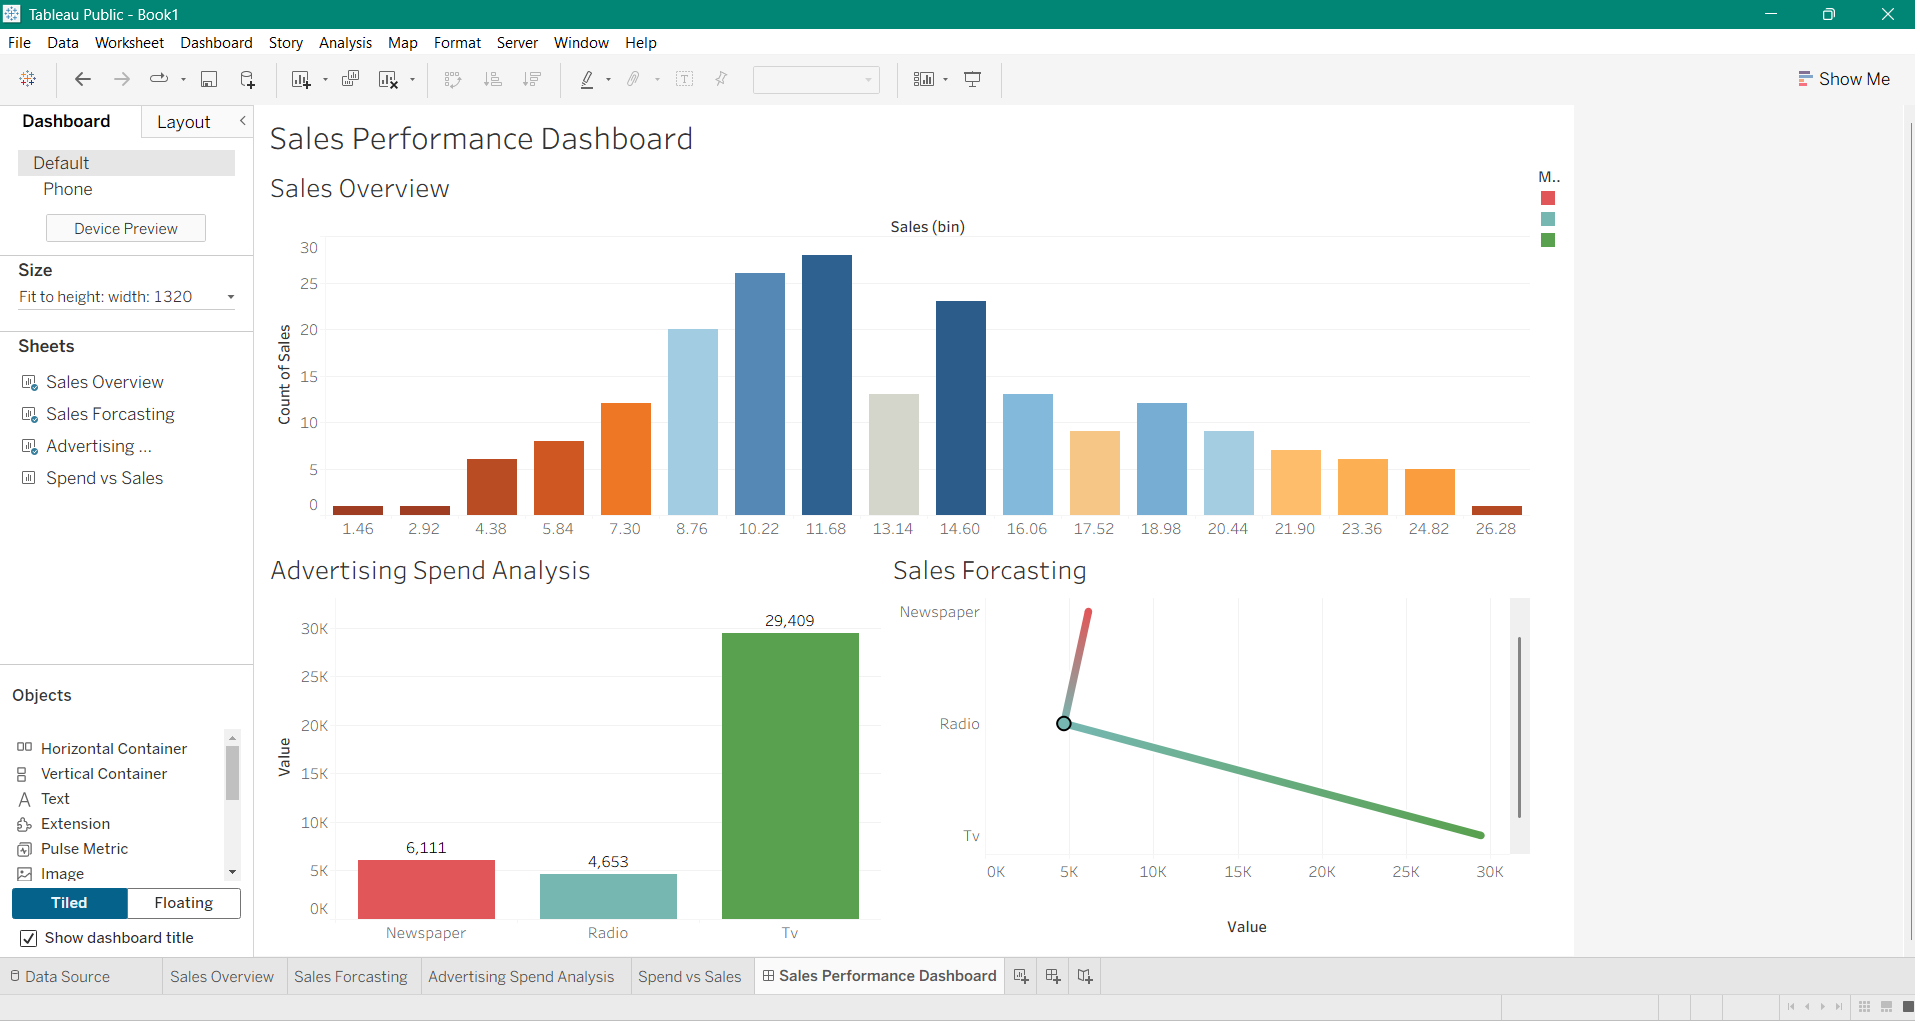

What the dashboard file says about the page in this screenshot:
{"tool":"tableau","page":{"name":"Sales Performance Dashboard","canvas":[1000,1000],"units":"permille","ordinal":0},"visuals":[{"type":"title","box":[6.1,9.4,987.9,58.7]},{"type":"worksheet","title":"Sales Overview","mark":"Automatic","rows":["sales"],"cols":["Sales (bin)"],"box":[6.1,68.1,963.6,448.4]},{"type":"legend","title":"Sales Forcasting","param":"[federated.0pinwom1u4ixl411bas8o1o83u2v].[:Measure Names]","box":[969.7,68.1,24.2,109.2]},{"type":"worksheet","title":"Advertising Spend Analysis","mark":"Automatic","box":[6.1,516.4,472,474.2]},{"type":"worksheet","title":"Sales Forcasting","mark":"Line","box":[478,516.4,491.7,474.2]}]}

Visuals, with their boxes on the dashboard's canvas, which has no fixed pixel size, in thousandths of its width and height (x1, y1, x2, y2). These are canvas units, not pixel positions in the 1915x1021 screenshot, which may show the page scaled, cropped or inside an application window:
title: [6, 9, 994, 68]
"Sales Overview" worksheet: [6, 68, 970, 516]
"Sales Forcasting" legend: [970, 68, 994, 177]
"Advertising Spend Analysis" worksheet: [6, 516, 478, 991]
"Sales Forcasting" worksheet (Line marks): [478, 516, 970, 991]
